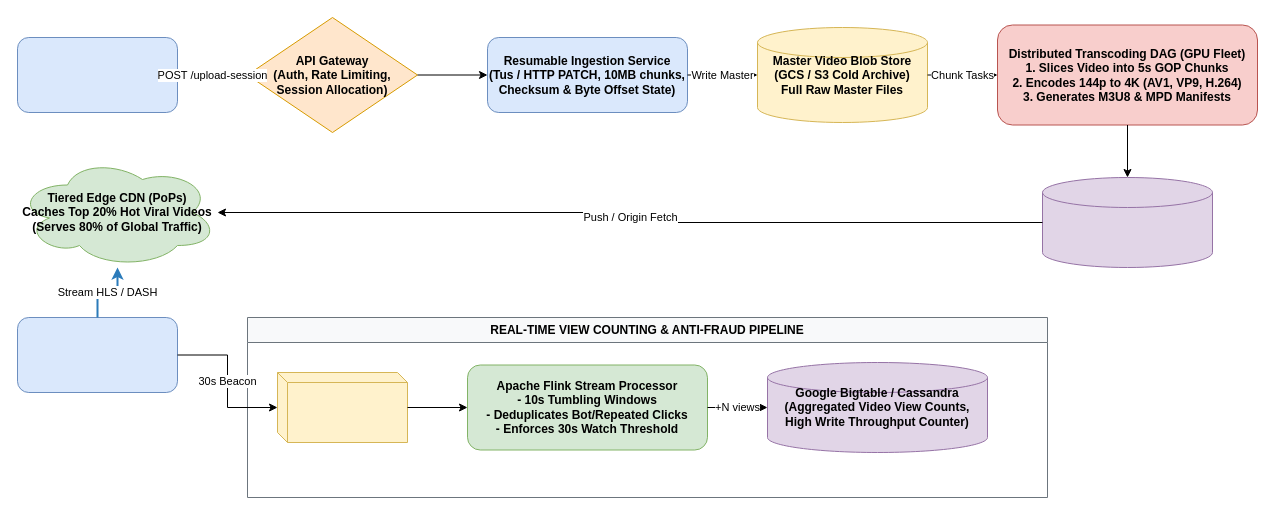
Some shapes in this 1275 by 515 pixel diagram are drawn without their labels. The shapes that lost their labels are listed below. From the top down, each one's centre as x and y in pixels, then its label:
At point (97, 74): "Creator Client - 500 hrs/min Uploads - Resumable Tus Protocol".
At point (1127, 222): "Transcoded Video Store (Chunks & Manifests)".
At point (97, 354): "Viewer Client - Adaptive Bitrate (ABR) - 30s View Beacons".
At point (342, 407): "Kafka Topic ('view-beacons')".
